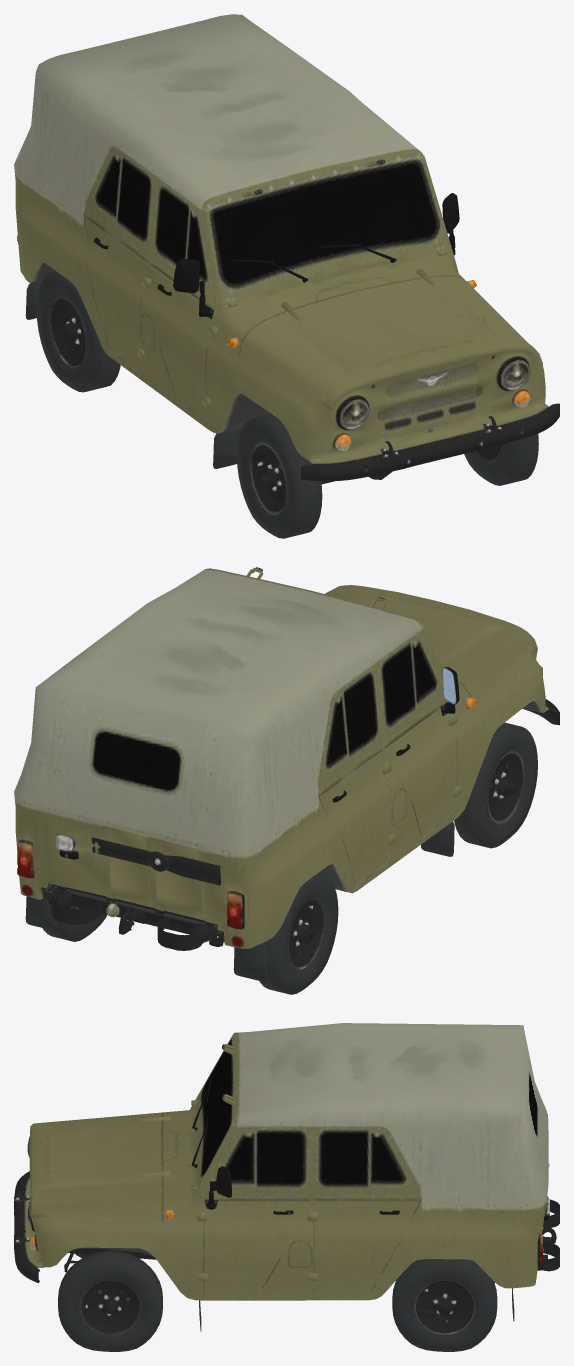
3 renders of one model, top to bottom at view 1: azimuth 30°, elevation 25°; view 2: azimuth 150°, elevation 25°; view 3: azimuth 270°, elevation 25°, orthographic. The views are drawn at different scales.
Parts seen in each view (by area): view 1: Object_2, Object_3; view 2: Object_2, Object_3; view 3: Object_2, Object_3.
Part boxes in pixels (bbox=[...]): Object_2: bbox=[14, 14, 559, 538]; Object_3: bbox=[25, 158, 459, 468]; Object_2: bbox=[14, 568, 559, 994]; Object_3: bbox=[25, 567, 459, 981]; Object_2: bbox=[14, 1023, 559, 1351]; Object_3: bbox=[191, 1044, 549, 1331].
Bounding box in the file's own units: 2.02 × 1.96 × 4.02.
Materials: 1 (1 with a texture image).
